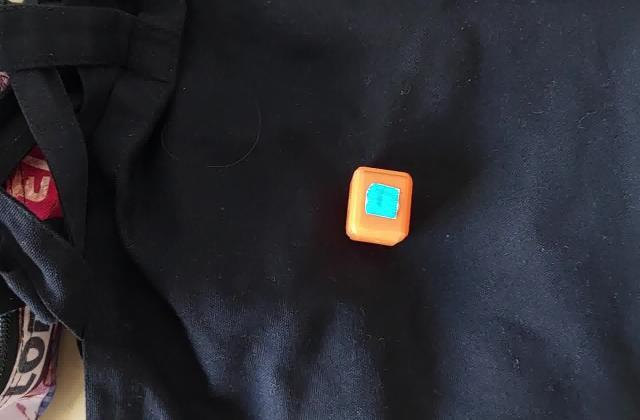blue: (372, 189, 394, 212)
sticker: (343, 163, 414, 250)
